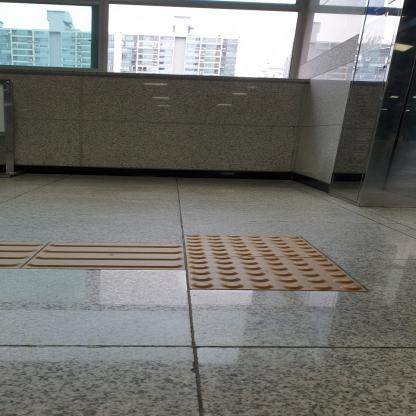go: (19, 242, 185, 270)
stop: (186, 255, 372, 292), (182, 234, 328, 257)
